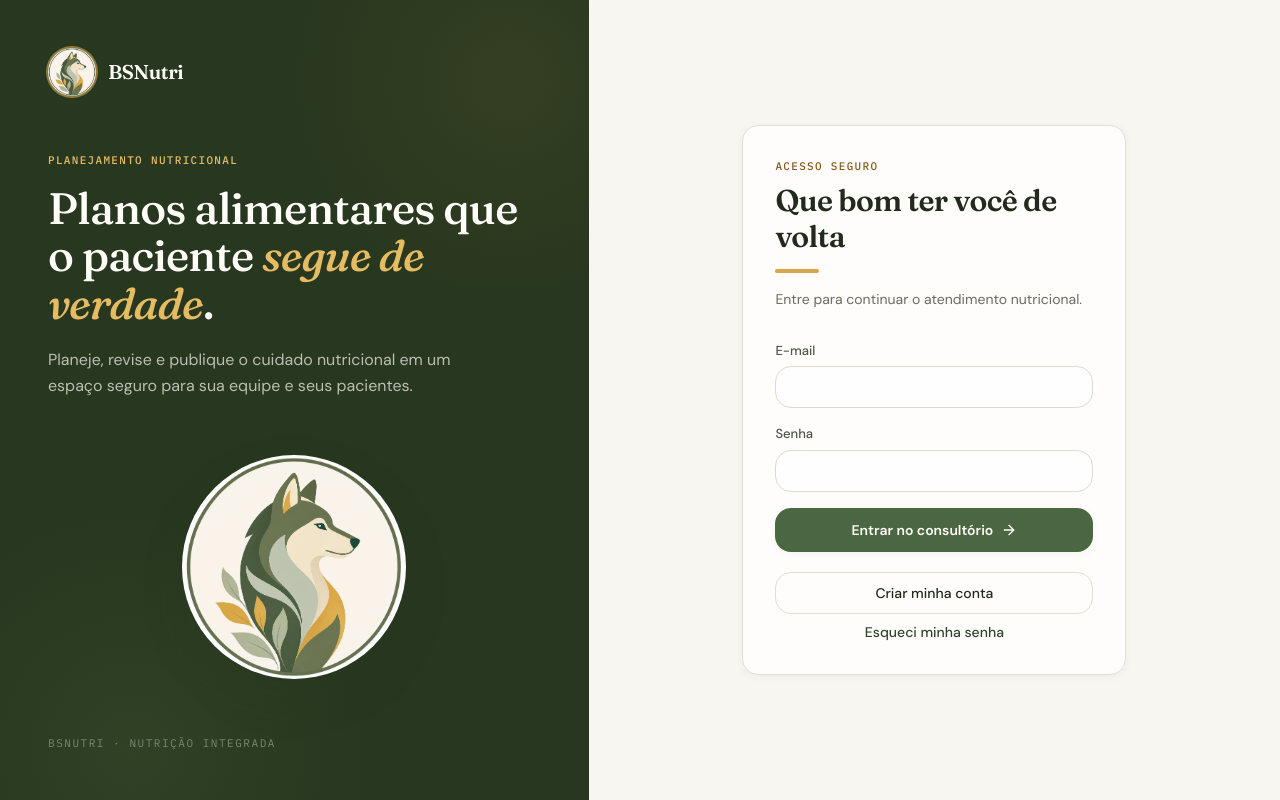
Test: Login › submits email and password to Supabase and displays an authentication error
Type "ana@example.com" into the field labelled "E-mail" at point(934, 387), box [775,366,1093,408]
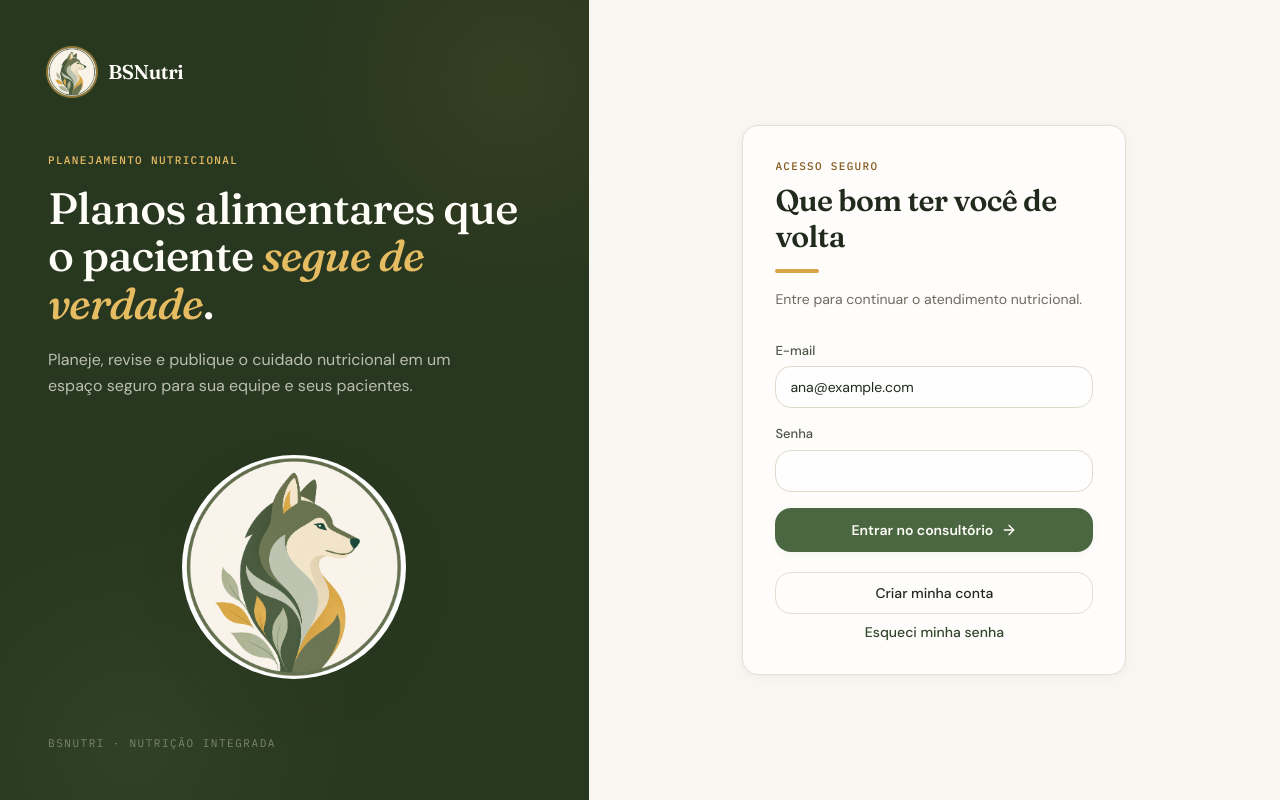
Type "senha-segura" into the password field labelled "Senha" at point(934, 471), box [775,450,1093,492]
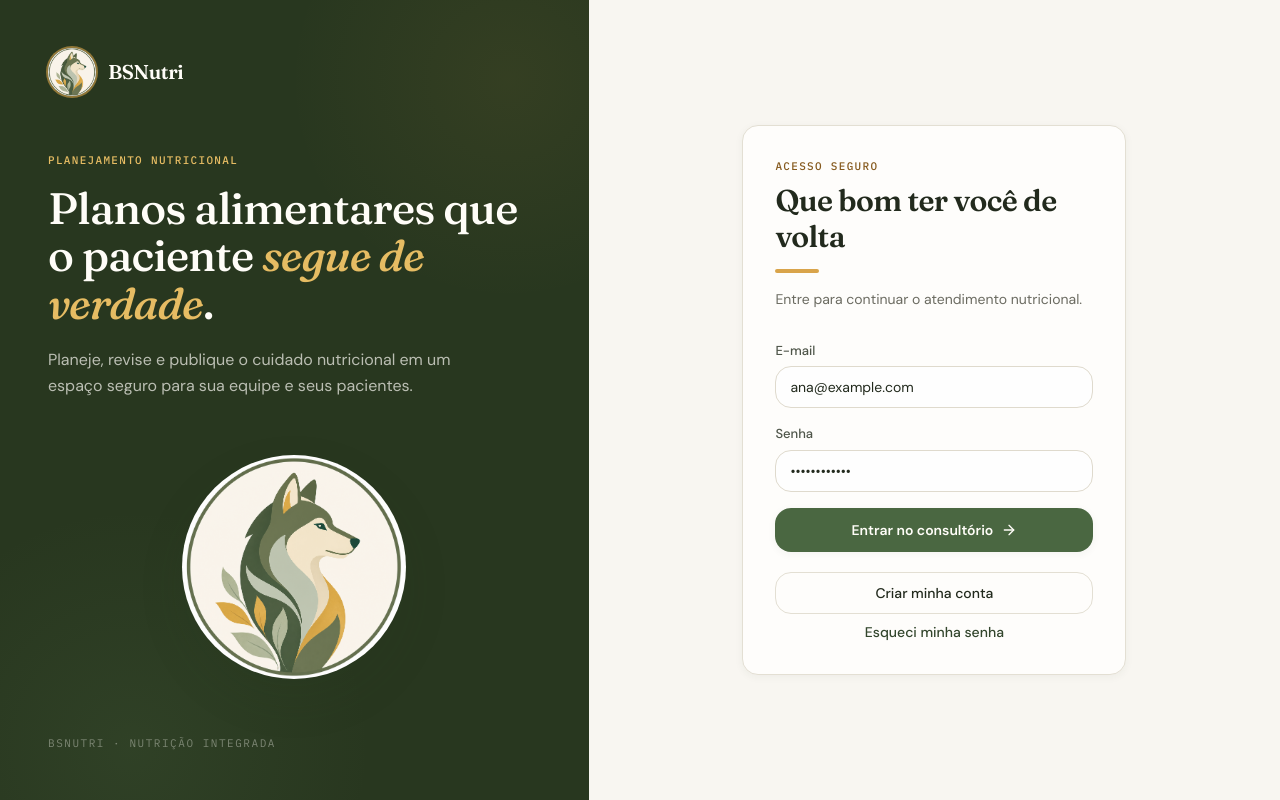
Click the button "Entrar no consultório" at point(934, 530), box [775,508,1093,552]
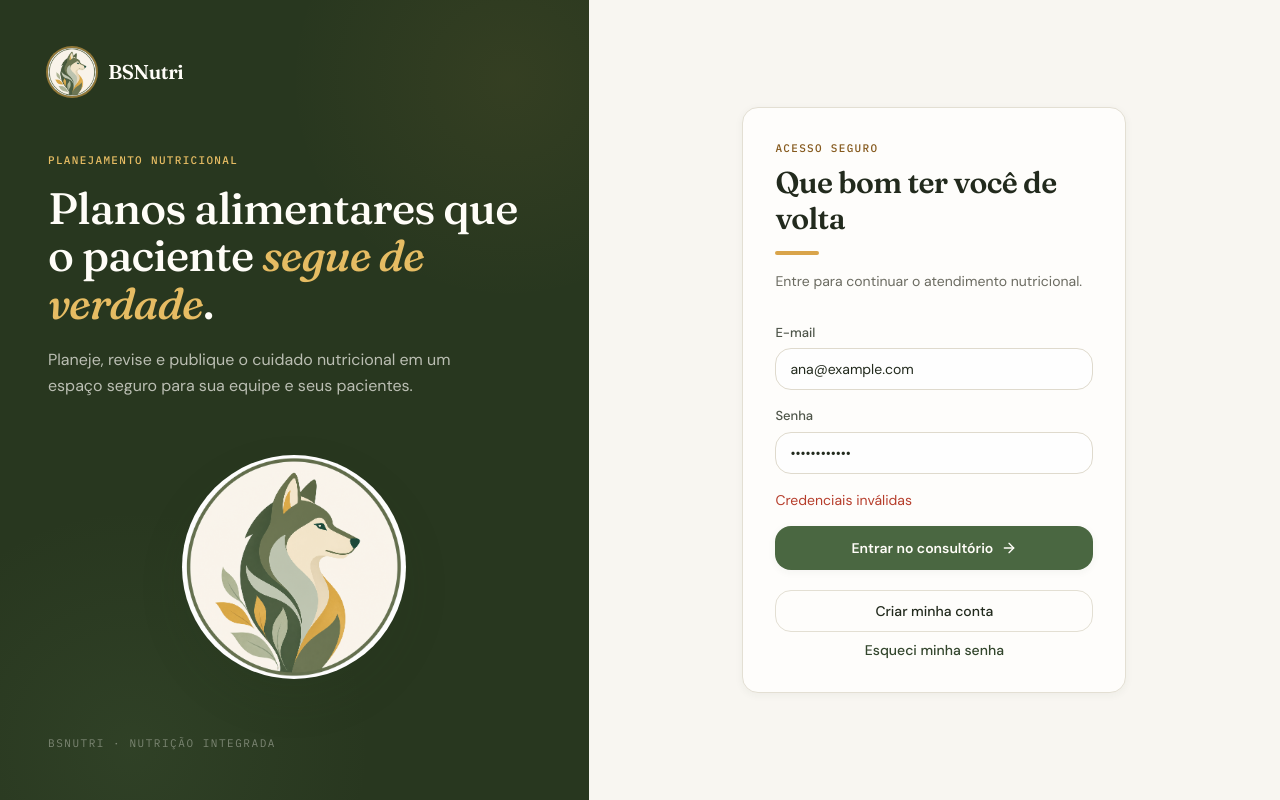
Check: the message reads "Credenciais inválidas", box [775,491,912,509]
